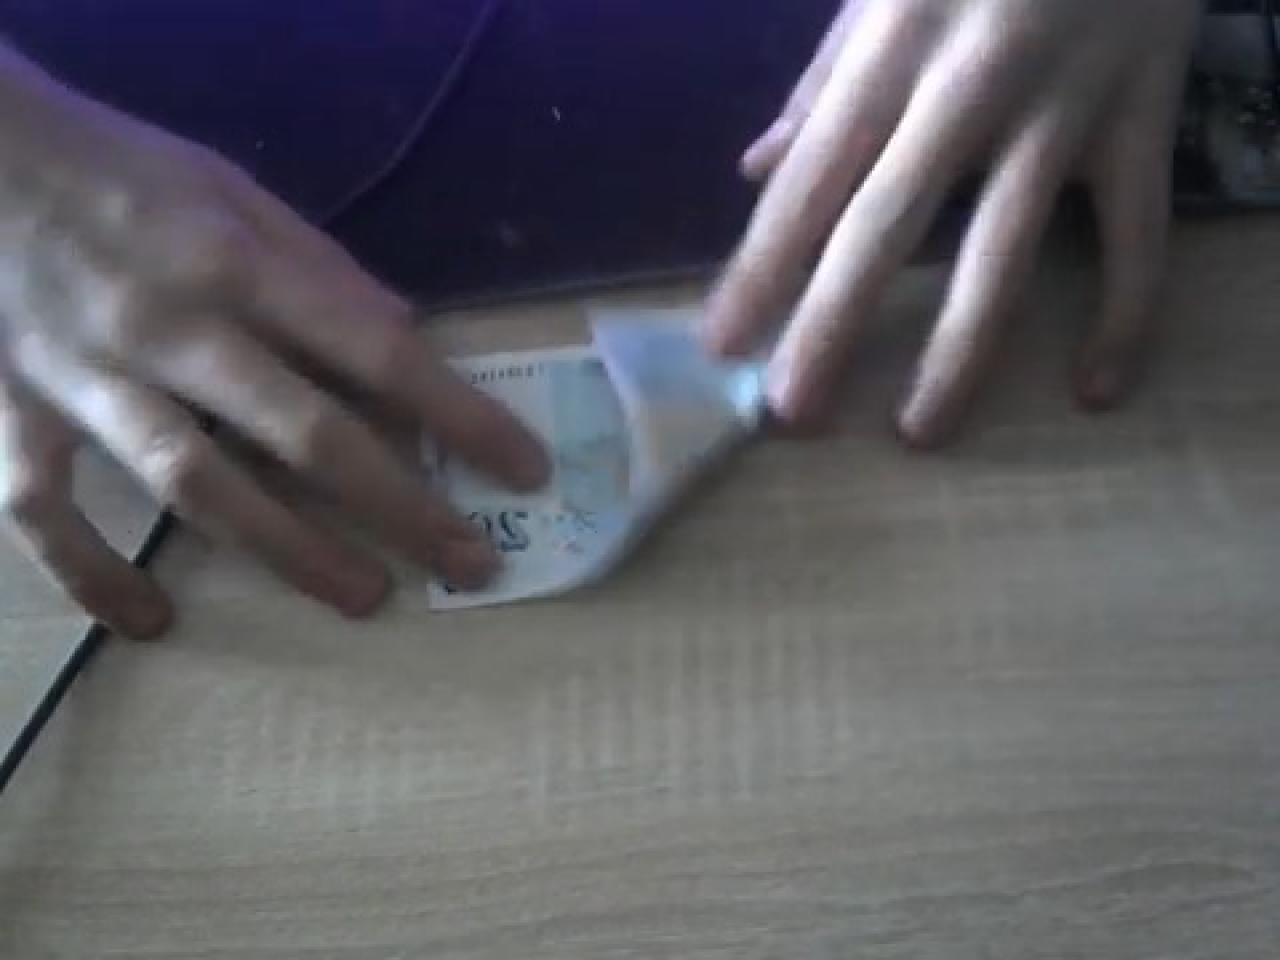20leva: (426, 302, 760, 611)
